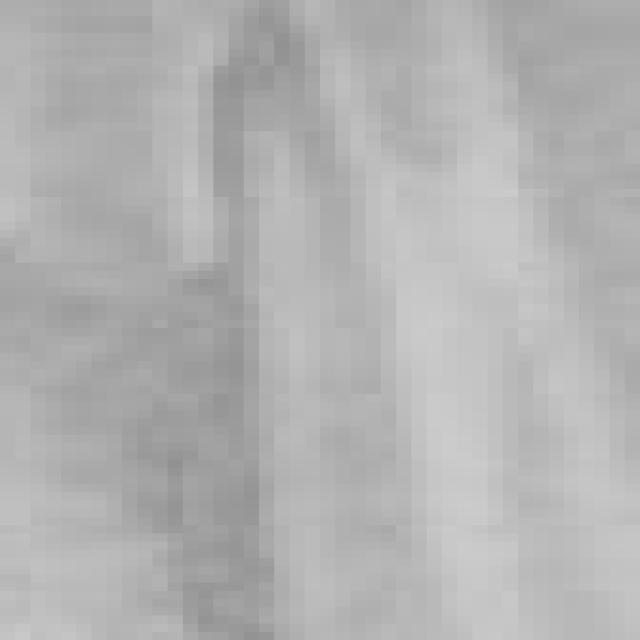fracture: (5, 0, 640, 640)
